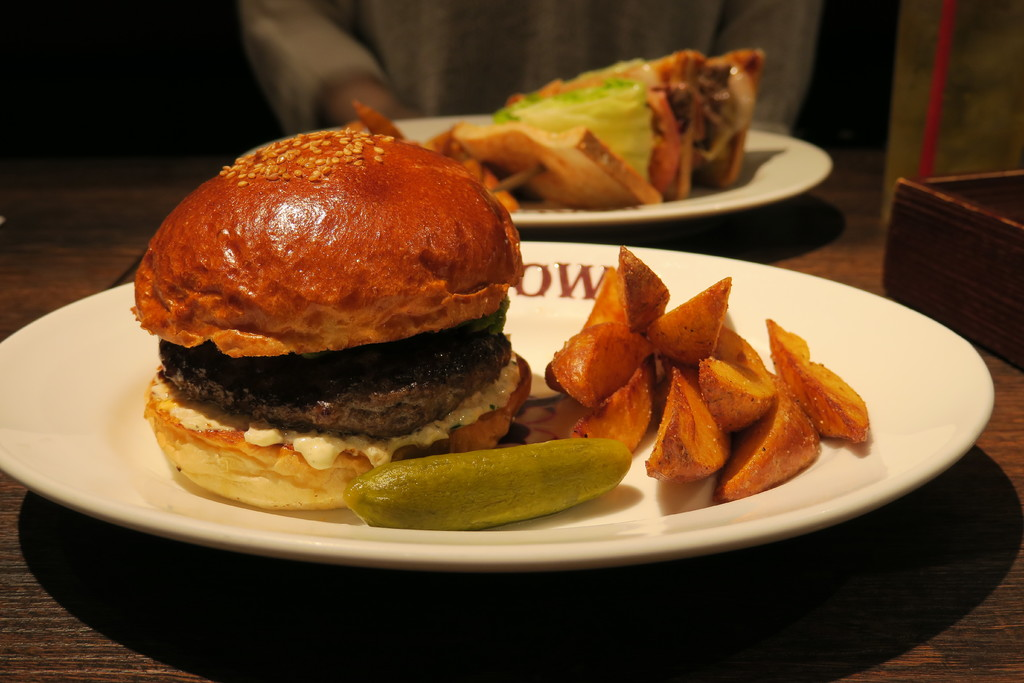Hamburger: (129, 130, 523, 504)
